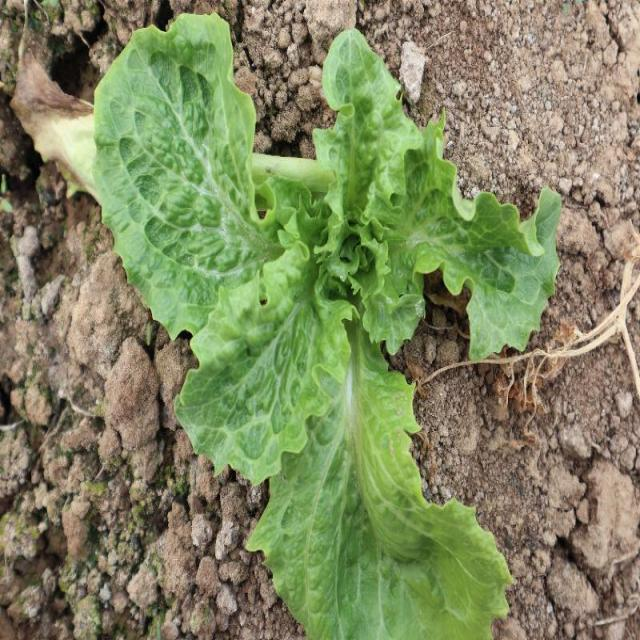crop: (97, 16, 559, 640)
